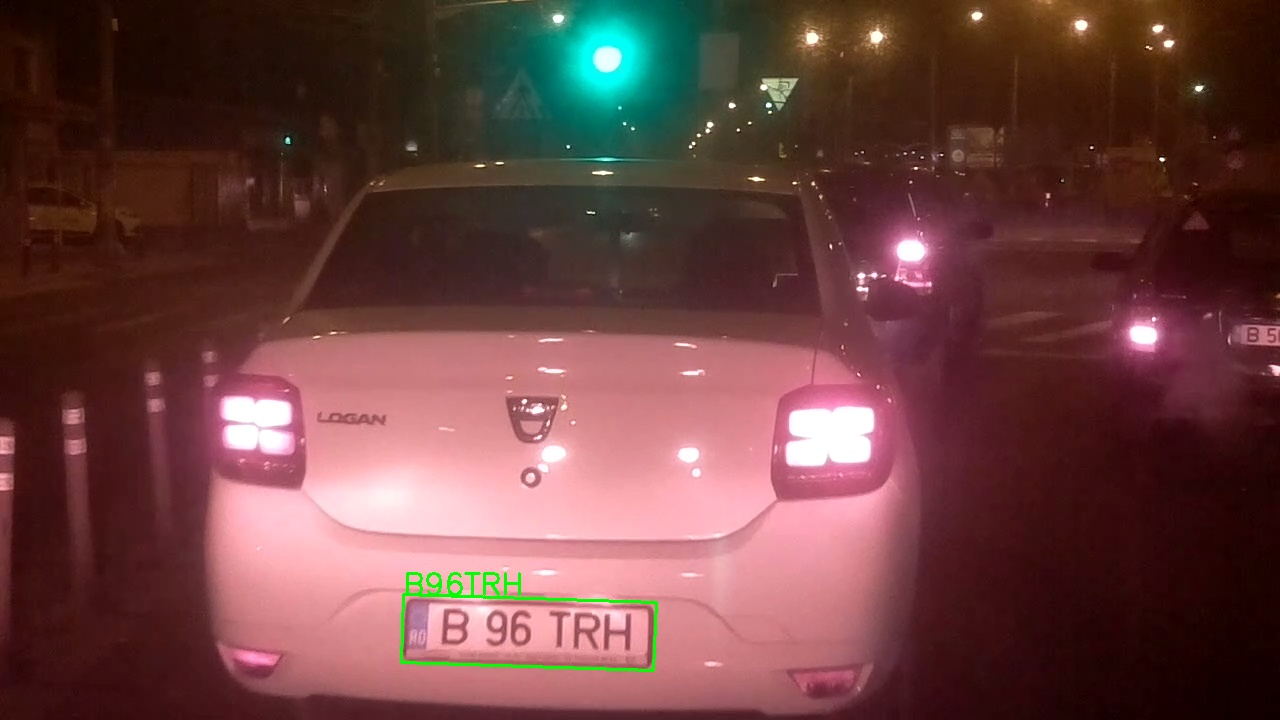license-plate: (400, 594, 657, 672)
